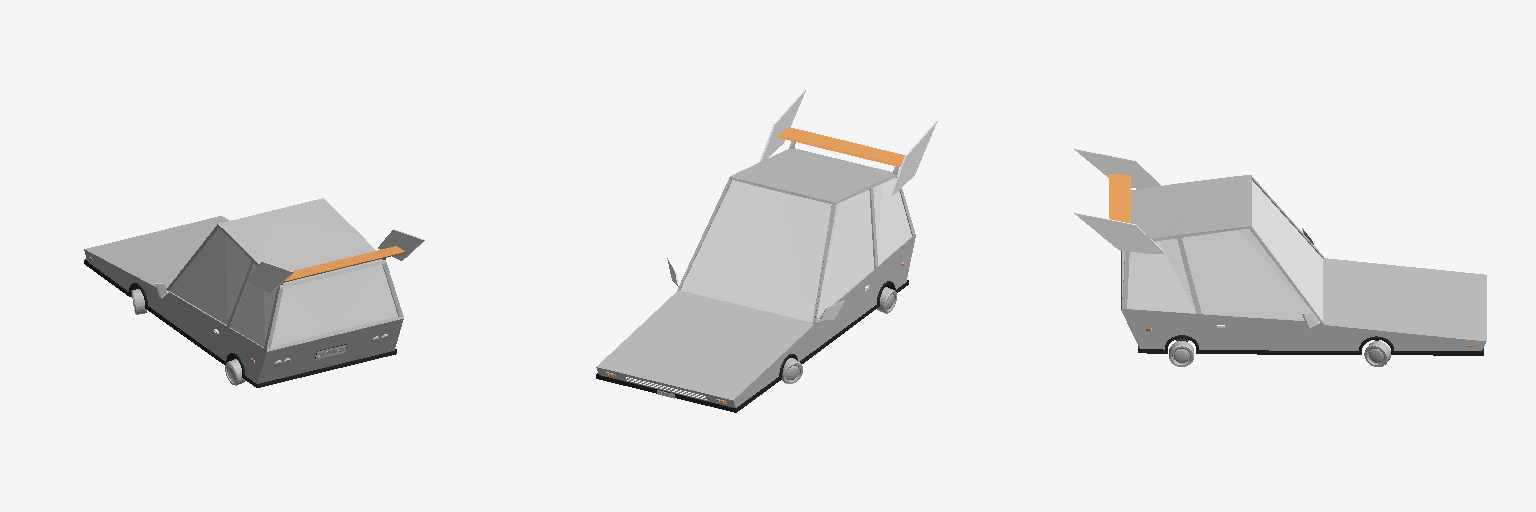
File: Long_Car.obj
The picture shows the model from 3 angles: view 1: azimuth 30°, elevation 25°; view 2: azimuth 150°, elevation 25°; view 3: azimuth 270°, elevation 25°; orthographic projection.
Visible parts, largest first — view 1: Body, Spoiler, Bumper, Spoiler_main; view 2: Body, Spoiler, Spoiler_main, Bumper; view 3: Body, Spoiler, Bumper, Spoiler_main.
Part boxes in pixels (bbox=[...]): Body: bbox=[84, 198, 403, 383]; Spoiler: bbox=[247, 229, 424, 292]; Bumper: bbox=[84, 259, 396, 387]; Spoiler_main: bbox=[283, 246, 405, 282]; Body: bbox=[596, 148, 915, 407]; Spoiler: bbox=[760, 89, 937, 195]; Spoiler_main: bbox=[778, 127, 904, 166]; Bumper: bbox=[596, 280, 908, 412]; Body: bbox=[1121, 175, 1486, 350]; Spoiler: bbox=[1073, 148, 1165, 253]; Bumper: bbox=[1138, 346, 1483, 355]; Spoiler_main: bbox=[1109, 174, 1130, 222].
Size of the model in its own units: 258 by 208 by 517.